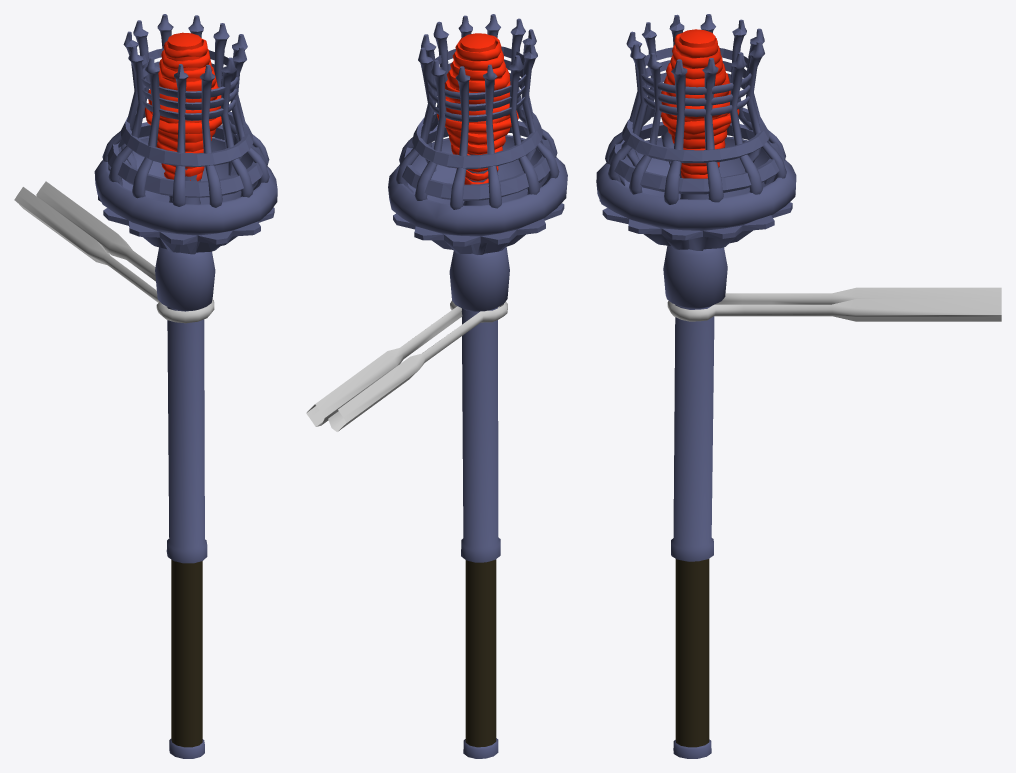
File: TorchWall_18.fbx
The picture shows the model from 3 angles, left to right: view 1: azimuth 30°, elevation 25°; view 2: azimuth 150°, elevation 25°; view 3: azimuth 270°, elevation 25°; orthographic projection.
Visible parts, largest first — view 1: TorchWall_18; view 2: TorchWall_18; view 3: TorchWall_18.
Boxes of the visible parts, left/top/right/bottom form: TorchWall_18: left=14, top=14, right=277, bottom=758; TorchWall_18: left=306, top=14, right=567, bottom=758; TorchWall_18: left=596, top=14, right=1001, bottom=758.
Size of the model in its own units: 13.61 by 31.47 by 62.06.
